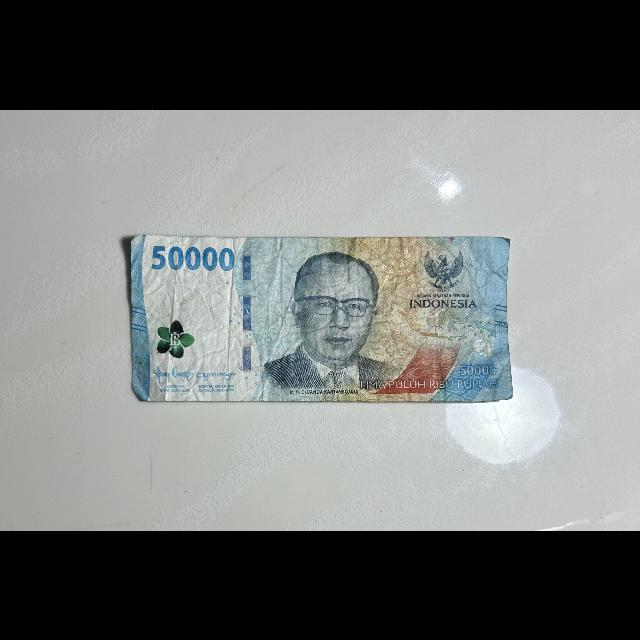Palsu-50k: (130, 232, 514, 402)
Tinta-Palsu-50k: (157, 320, 195, 359)
